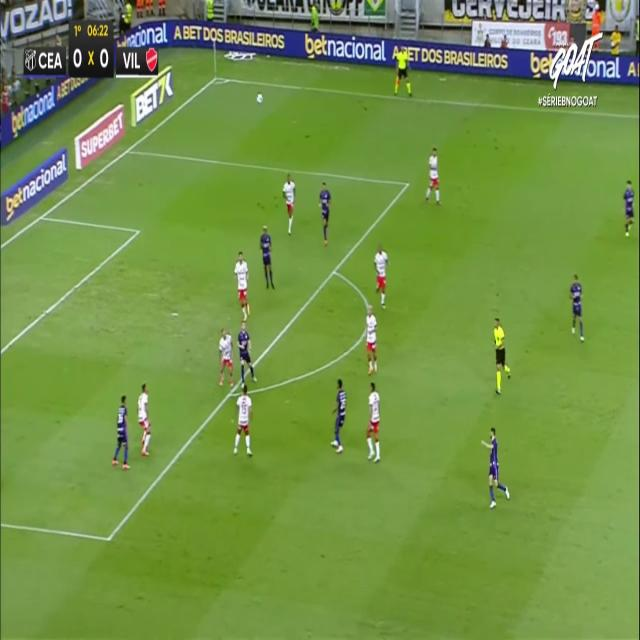ball: (257, 85, 264, 112)
player: (481, 426, 510, 508), (233, 382, 253, 456), (112, 394, 131, 469), (237, 321, 257, 387), (366, 381, 381, 463), (331, 378, 347, 452), (234, 250, 250, 322), (569, 273, 585, 341), (373, 244, 389, 309), (137, 382, 151, 455), (260, 224, 275, 289), (218, 327, 234, 387), (425, 147, 441, 205), (282, 173, 296, 235), (365, 303, 377, 375), (319, 181, 331, 246), (623, 179, 635, 237)
referee: (493, 316, 511, 394), (392, 44, 412, 97)
